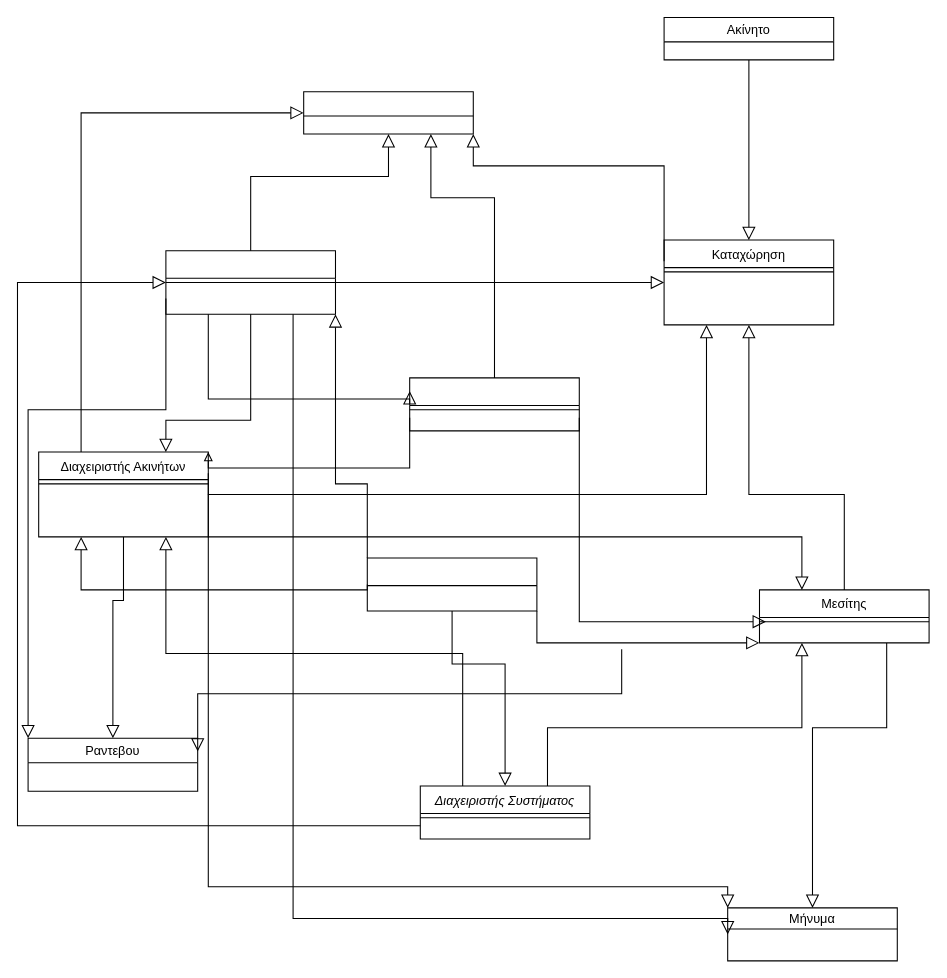
Some shapes in this 947 by 978 pixel diagram are drawn without their labels. Here are the shapes that lost their labels. From the top down, the centre of each, then its label:
the point at 388,112: Προσφορά
the point at 250,282: Ιδιώτης
the point at 494,404: Πληρωμή
the point at 451,584: Χρήστης
